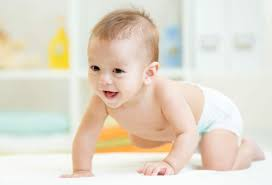child: (61, 4, 267, 179)
